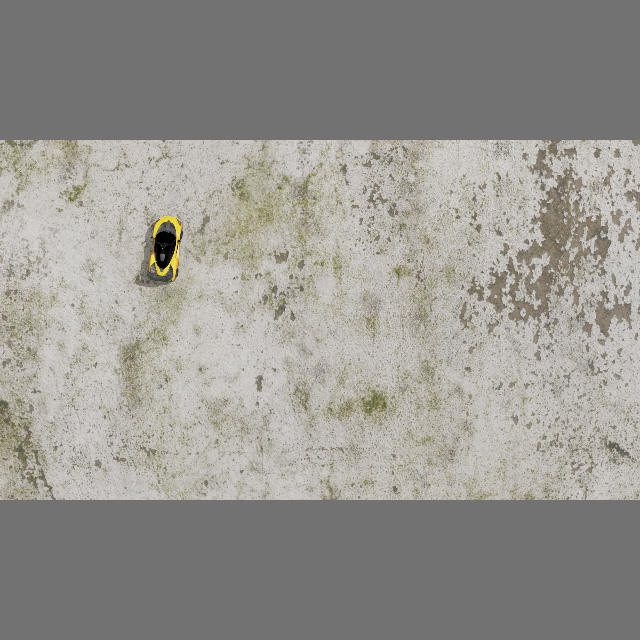car: (144, 212, 186, 284)
